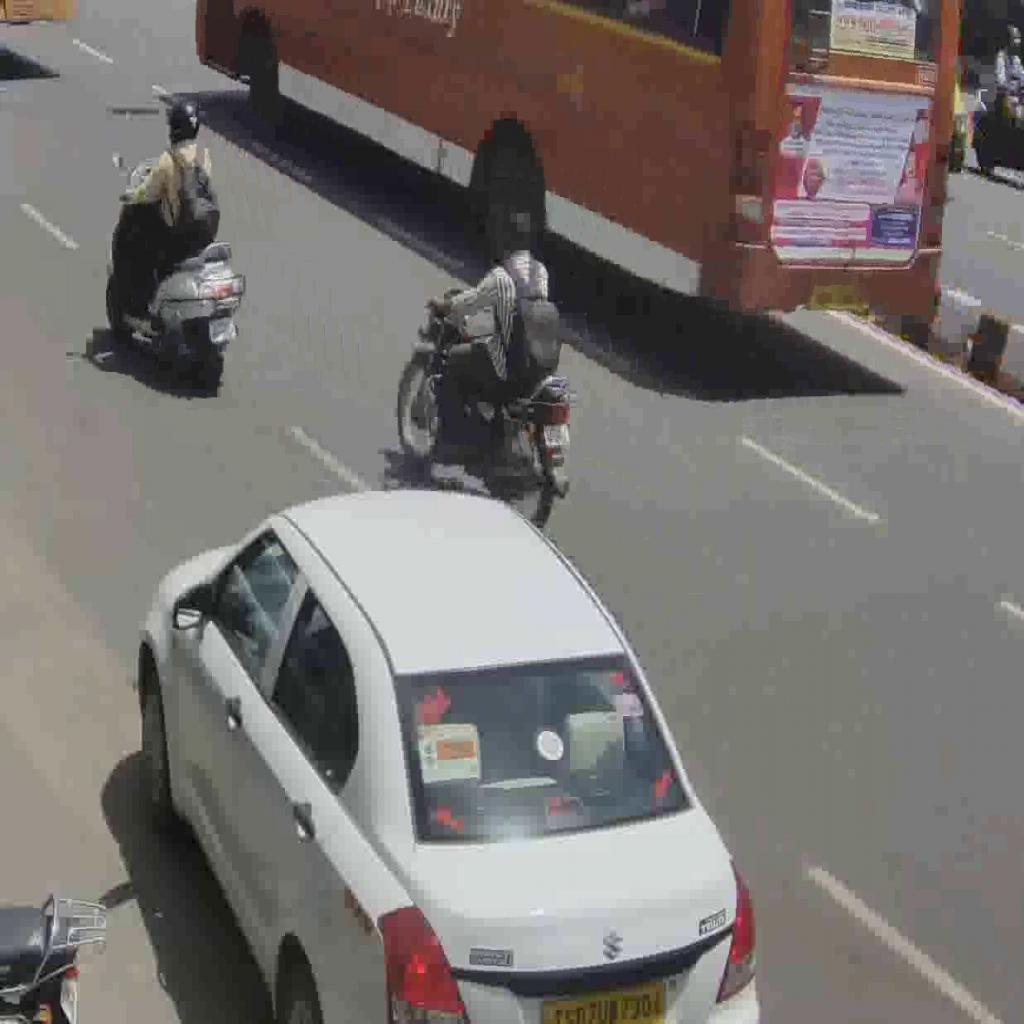helmet: (396, 286, 580, 533), (104, 153, 246, 392)
